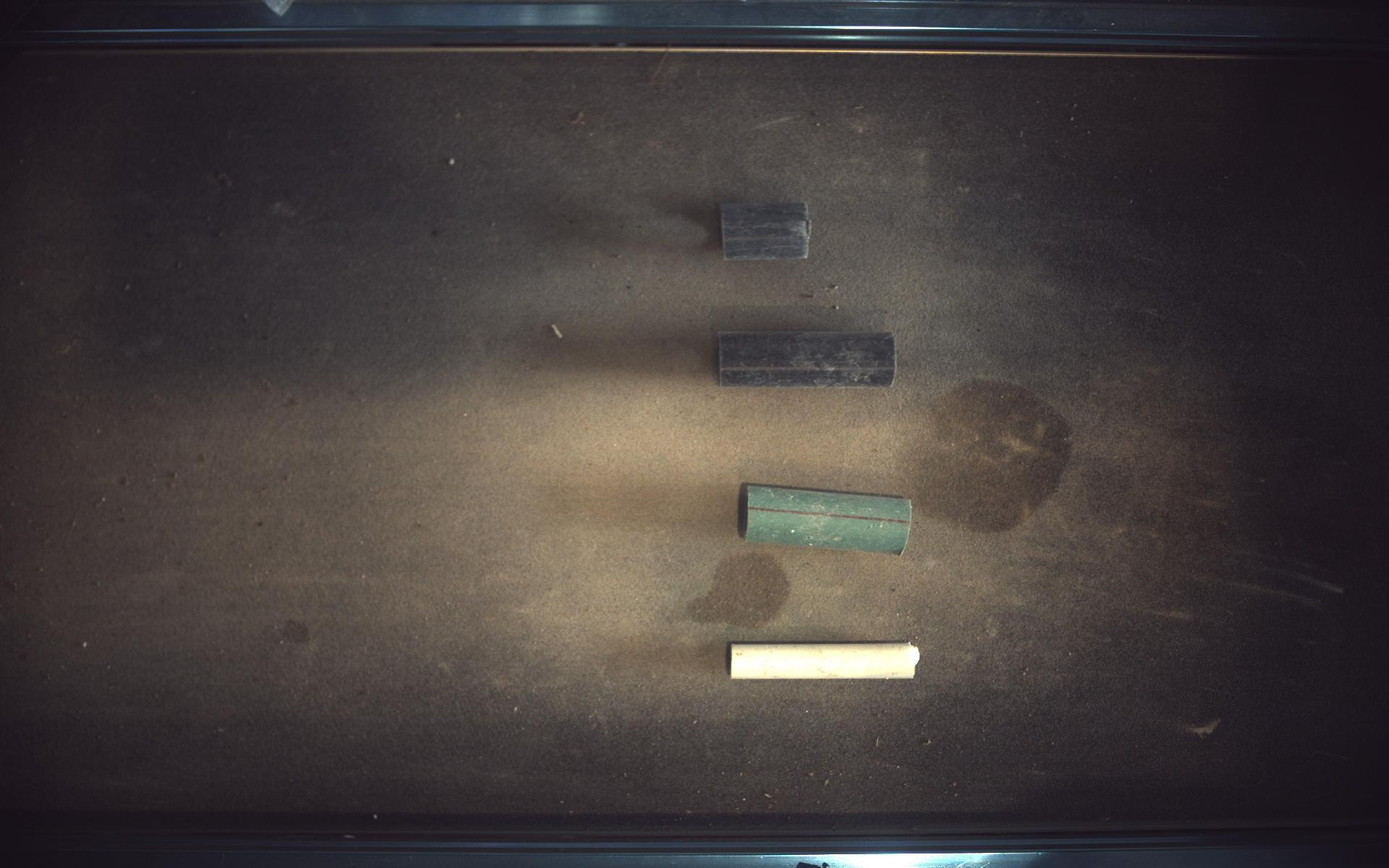pipes: (740, 484, 914, 555), (720, 332, 897, 386), (732, 644, 922, 680), (723, 203, 811, 260)
